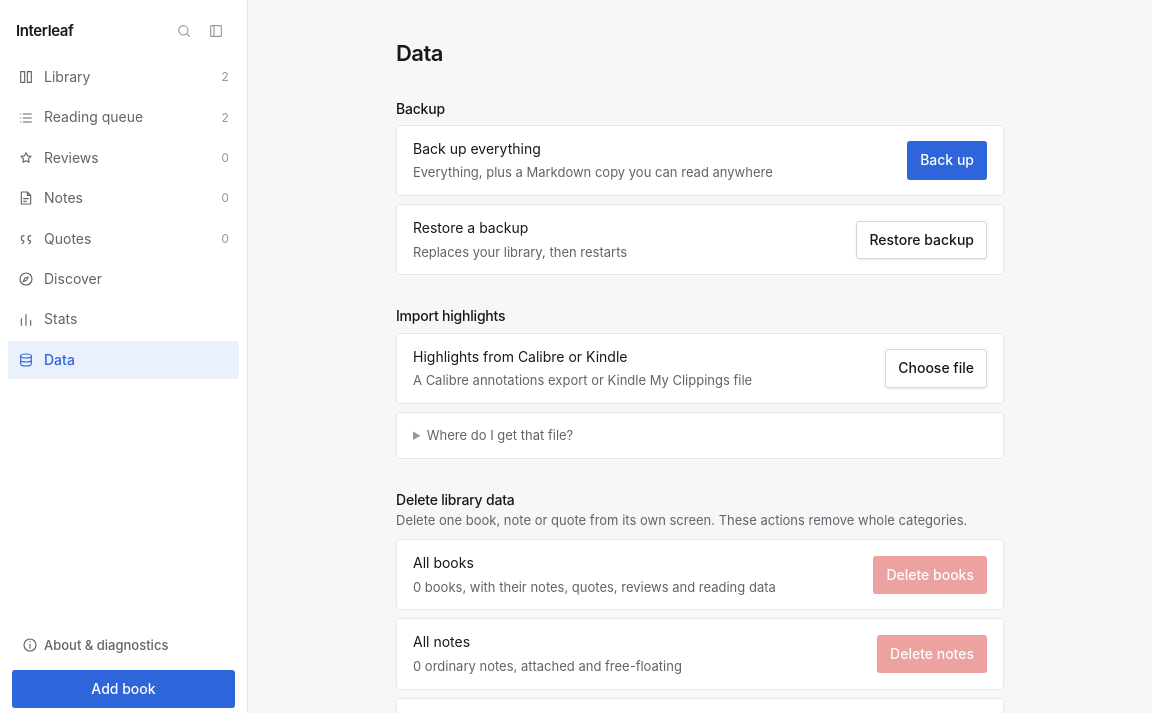
Test: starting an import from Data › imports without asking when every book was matched before
This screenshot has width=1152, height=713.
Click the button "Choose file". click: [936, 368]
box: [885, 349, 987, 388]
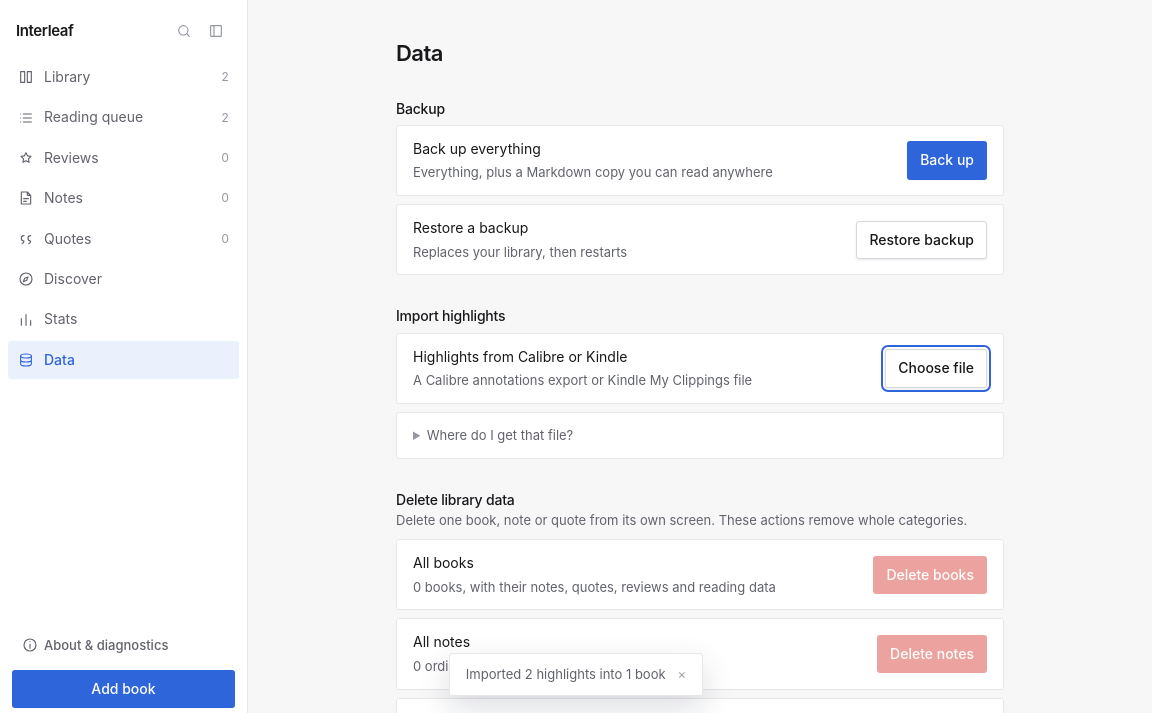
Now the text "Imported 2 highlights into 1 book" is shown, box [466, 664, 666, 685]
